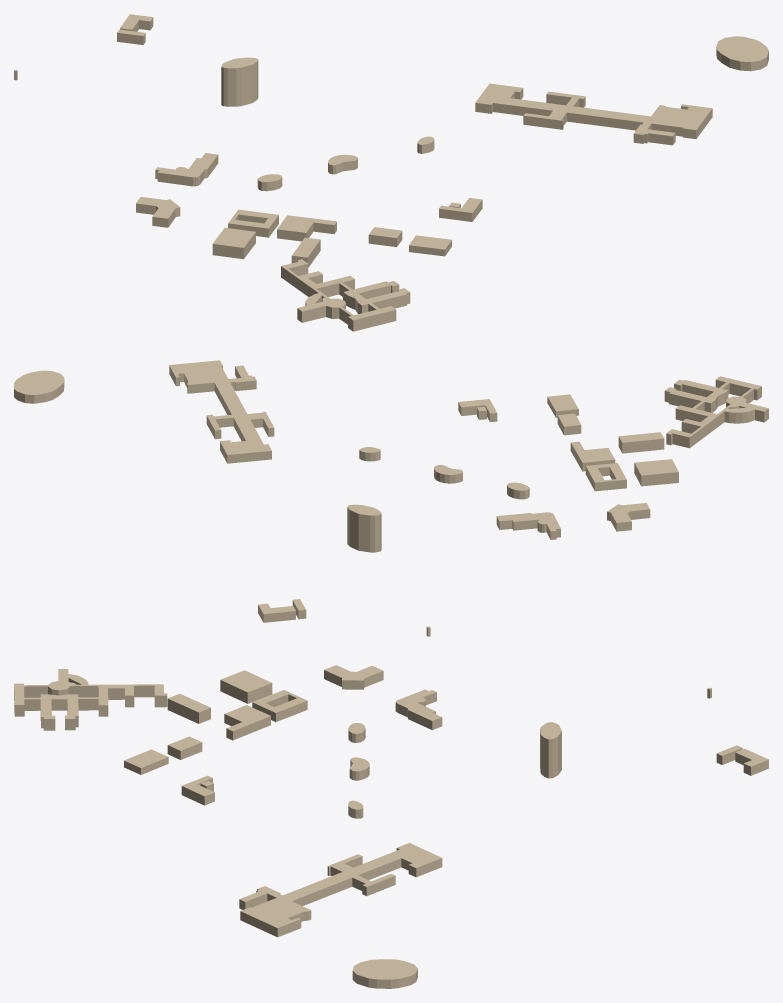
File: -16_2-estimated-coarse.glb
The picture shows the model from 3 angles, top to bottom: view 1: azimuth 30°, elevation 25°; view 2: azimuth 150°, elevation 25°; view 3: azimuth 270°, elevation 25°; orthographic projection. The views are drawn at different scales.
Bounding box in the file's own units: 881 × 51 × 894.
